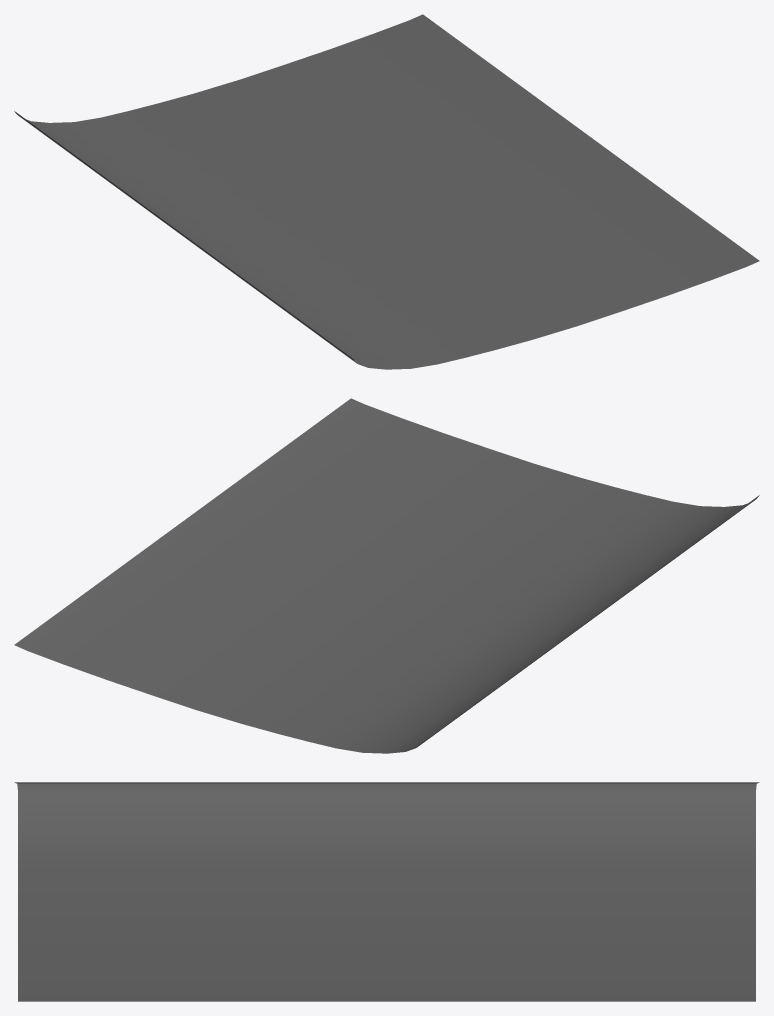
The model's file is Book_23_book_front_23_0.obj.
The picture shows the model from 3 angles, top to bottom: view 1: azimuth 30°, elevation 25°; view 2: azimuth 150°, elevation 25°; view 3: azimuth 270°, elevation 25°; orthographic projection. The views are drawn at different scales.
Bounding box in the file's own units: 0.2144 × 0.0133 × 0.3109.
Materials: 1 (1 with a texture image).
